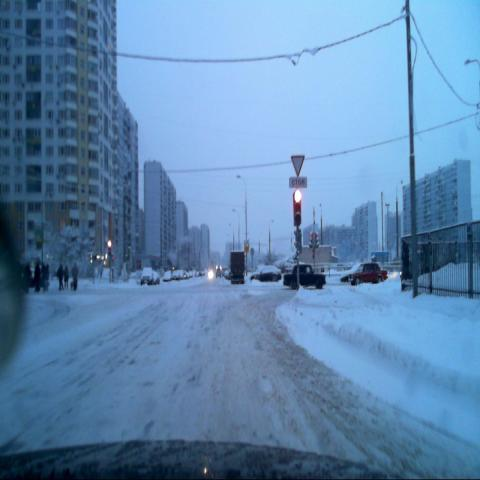2_4: (290, 154, 304, 178)
6_16: (289, 178, 306, 189)
